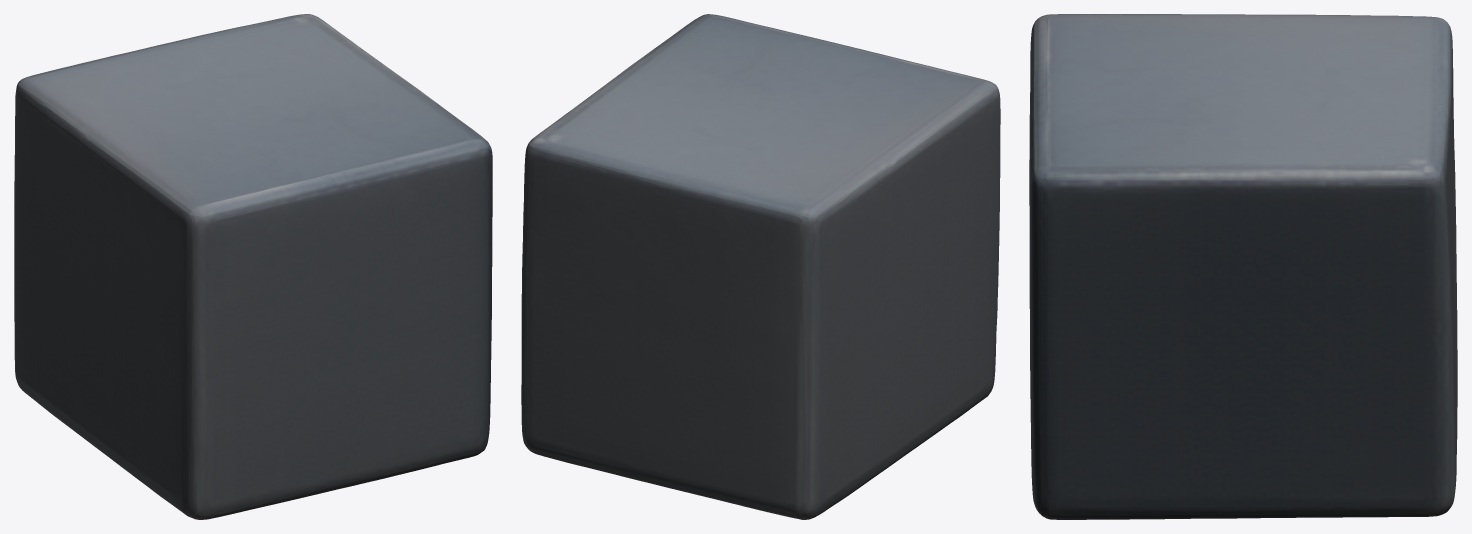
Rendered from obj2_scaled_obb.glb.
The picture shows the model from 3 angles, left to right: view 1: azimuth 30°, elevation 25°; view 2: azimuth 150°, elevation 25°; view 3: azimuth 270°, elevation 25°; orthographic projection. The views are drawn at different scales.
Visible parts, largest first — view 1: world; view 2: world; view 3: world.
Boxes of the visible parts, x1,y1,x2,y2 form: world: [14, 14, 492, 519]; world: [521, 14, 1000, 519]; world: [1029, 14, 1457, 519].
Bounding box in the file's own units: 0.0397 × 0.0395 × 0.0433.
